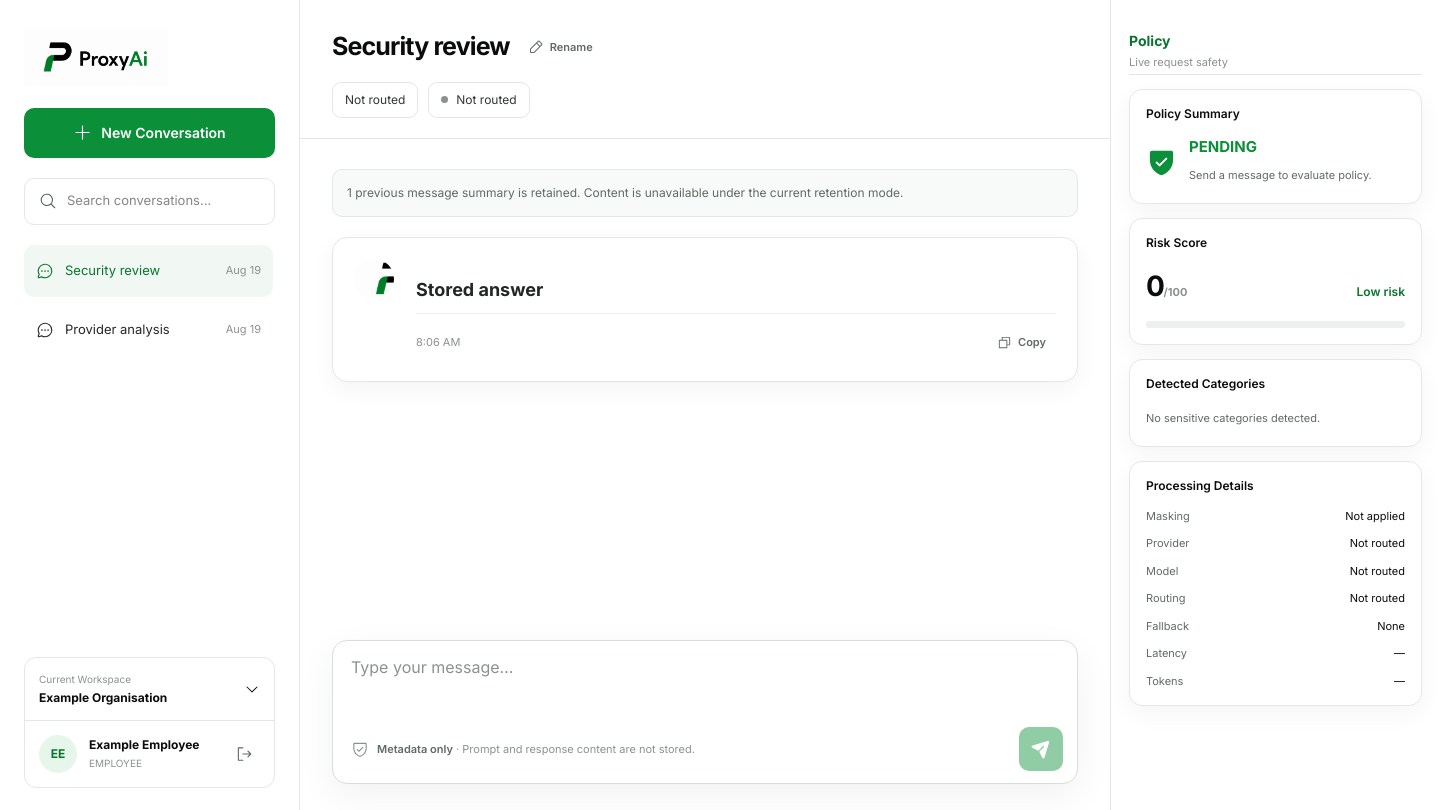
conversation workspace loading › shows a safe BLOCK decision when the backend rejects before streaming
expect the heading "Security review" is shown: met, box [332,28,510,66]
Step 1. Type "blocked sentinel" into the text box labelled "message" → (707, 691), box [351,655,1063,727]
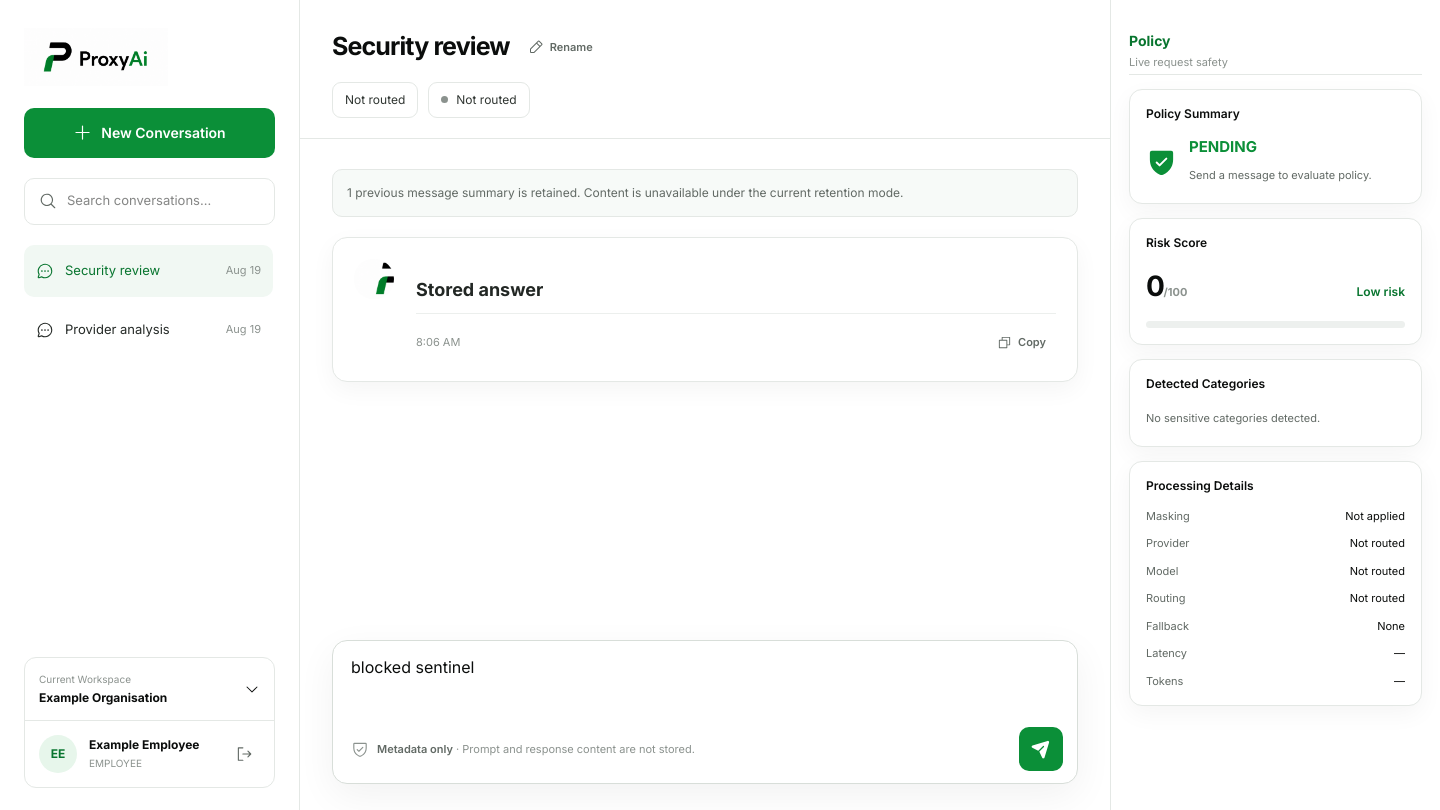
Step 2. Click the button named "Send message" → (1041, 749), box [1019,727,1063,771]
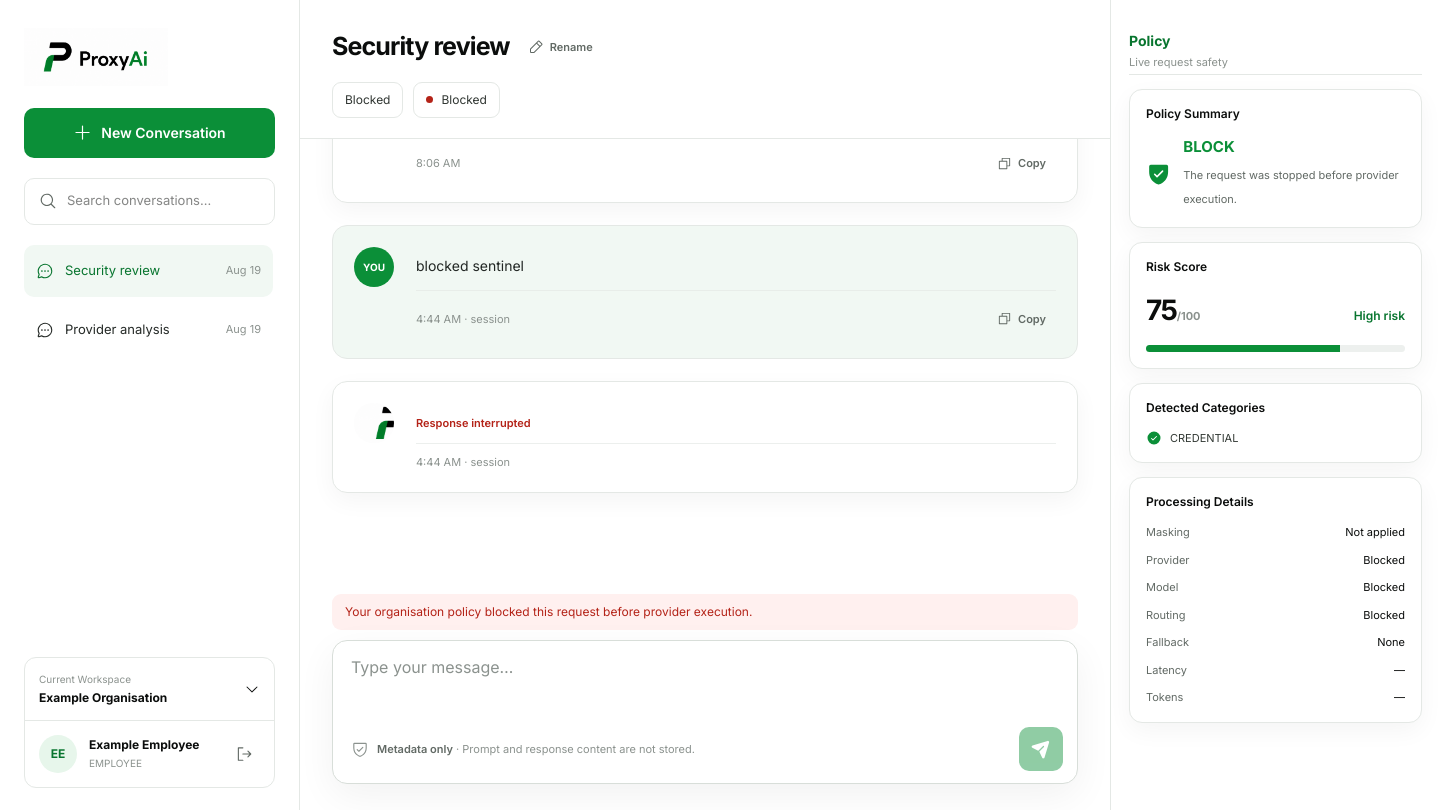
expect the text "BLOCK" is shown: met, box [1183,137,1235,156]
expect the list item "CREDENTIAL" is shown: met, box [1146,430,1238,446]
expect the text "Your organisation policy blocked this request before provider execution." is shown: met, box [332,594,1078,630]
